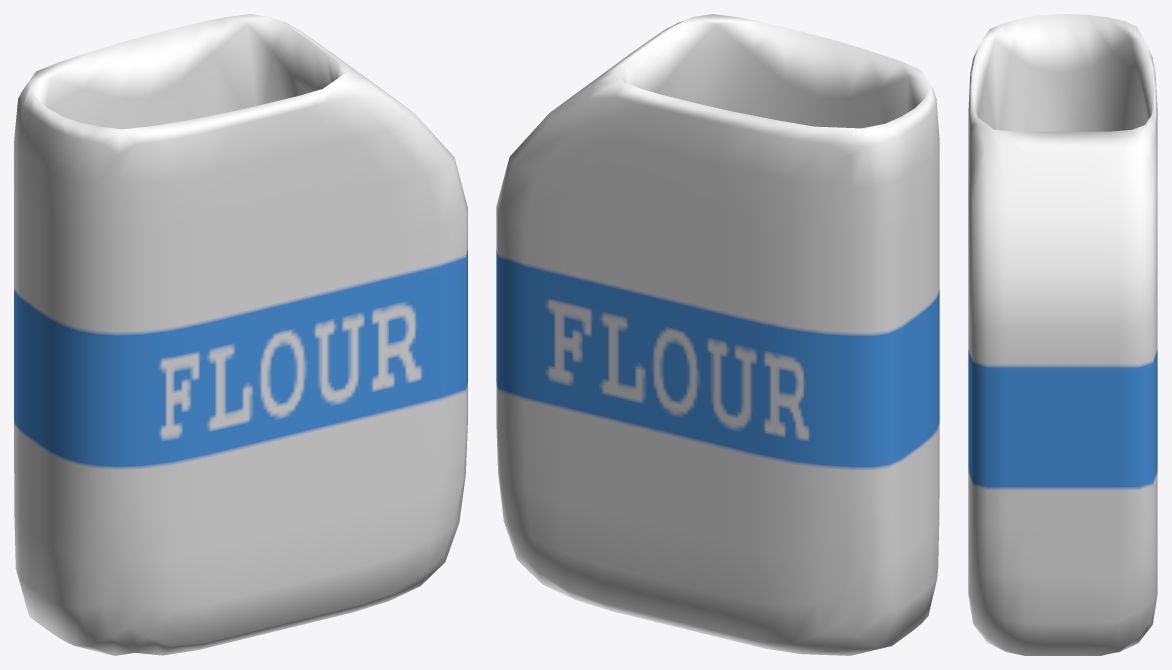
File: FlourBag.FBX
3 views of the same model, side by side, from view 1: azimuth 30°, elevation 25°; view 2: azimuth 150°, elevation 25°; view 3: azimuth 270°, elevation 25° (orthographic). The views are drawn at different scales.
Parts seen in each view (by area): view 1: FlourBag; view 2: FlourBag; view 3: FlourBag.
Boxes of the visible parts, bbox=[...] form: FlourBag: bbox=[14, 14, 467, 655]; FlourBag: bbox=[496, 14, 939, 655]; FlourBag: bbox=[968, 14, 1157, 655].
Size of the model in its own units: 15 by 20 by 7.
Materials: 1 (1 with a texture image).
